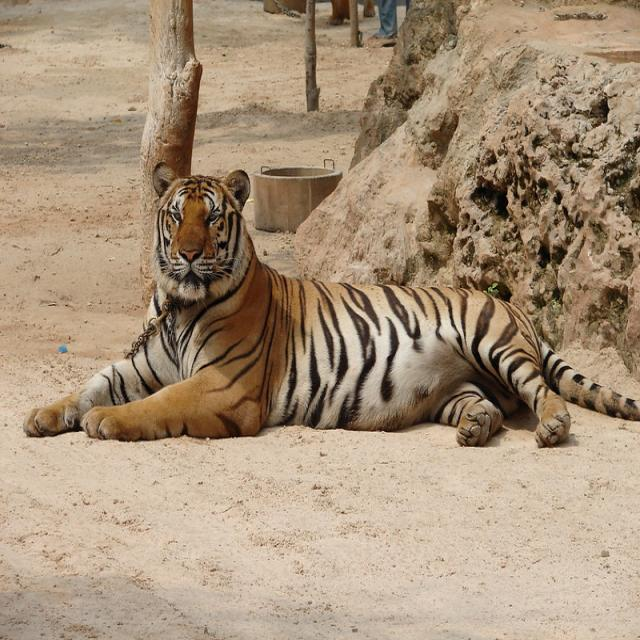Tiger: (24, 163, 598, 448)
